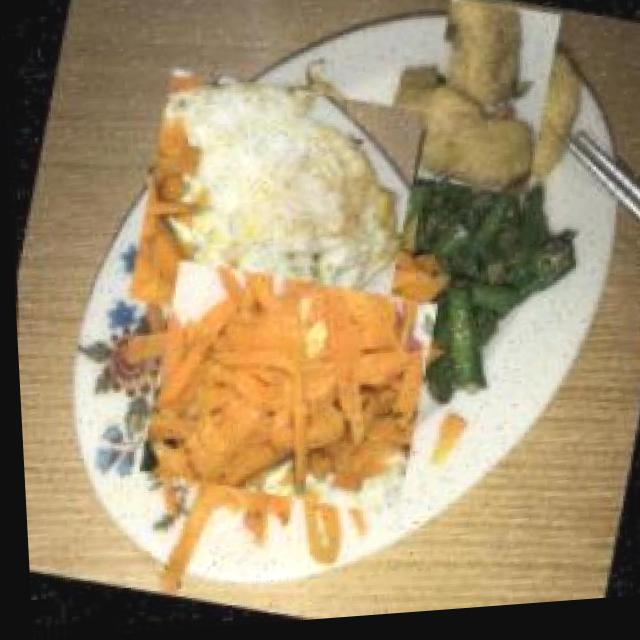carrot_eggs: (121, 242, 445, 539)
chicken_nuggets: (392, 7, 582, 200)
fried_eggs: (116, 51, 431, 371)
